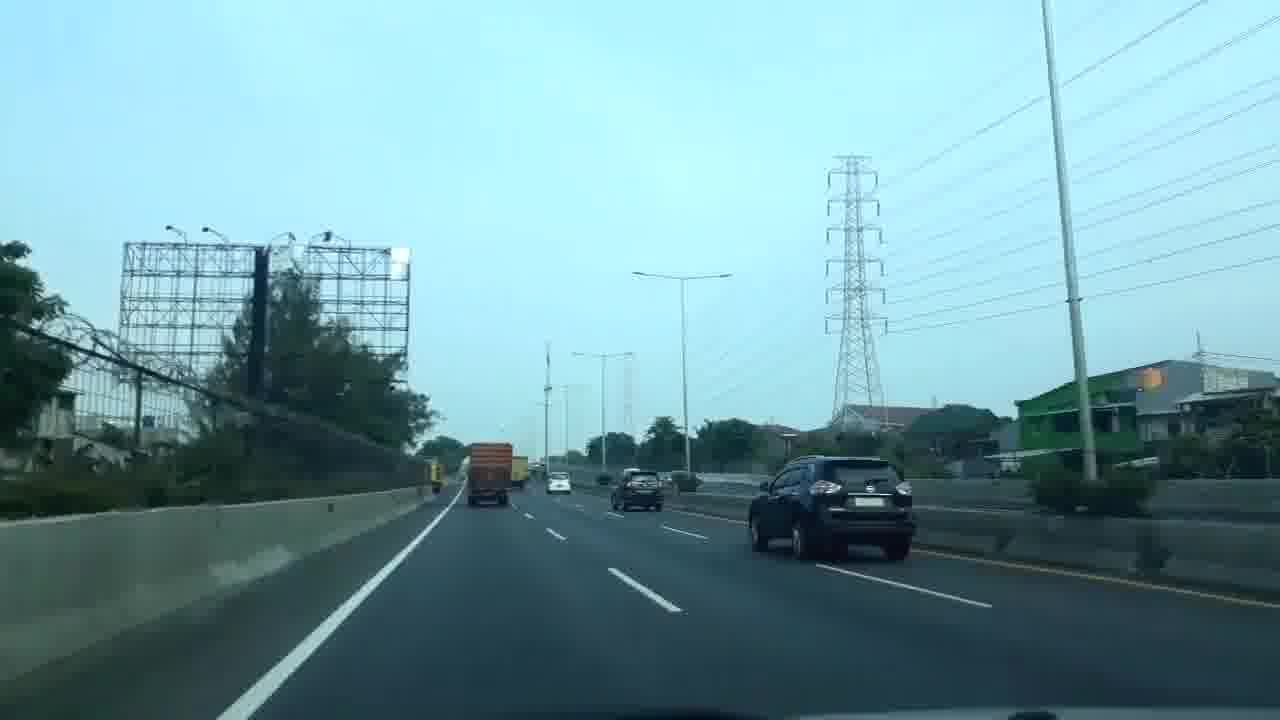plate_positive: (855, 497, 886, 507)
